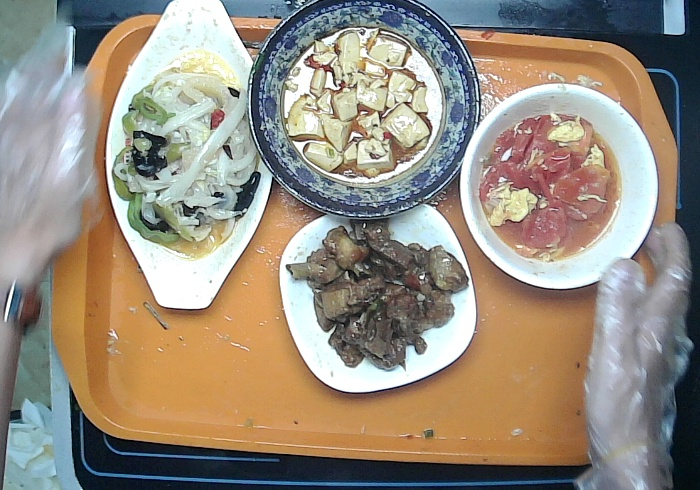ZNLD-Qing_Hua_Wan: (245, 4, 479, 222)
ZNLD-Si_Fang_Wan: (279, 204, 481, 394)
ZNLD-Tang_Wan: (455, 82, 657, 291)
ZNLD-Yu_Pan: (102, 3, 274, 313)
